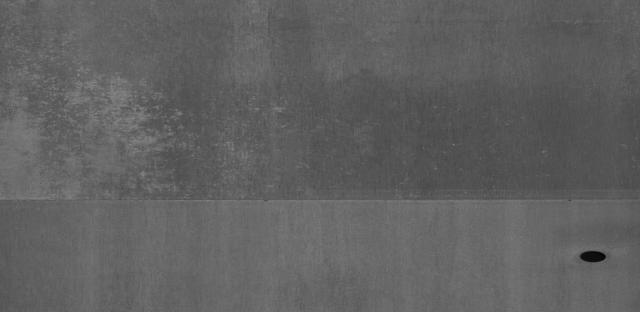punching_hole: (574, 247, 611, 266)
welding_line: (1, 190, 640, 212)
